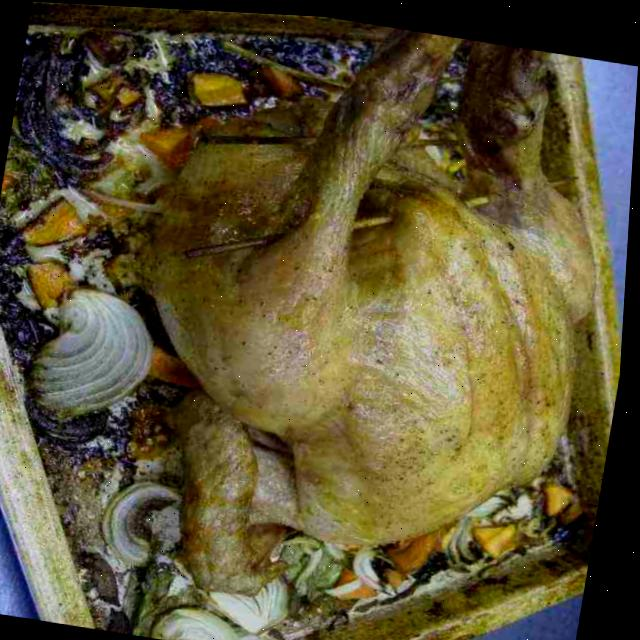鸡肉料理 含炸鸡: (107, 6, 640, 639)
